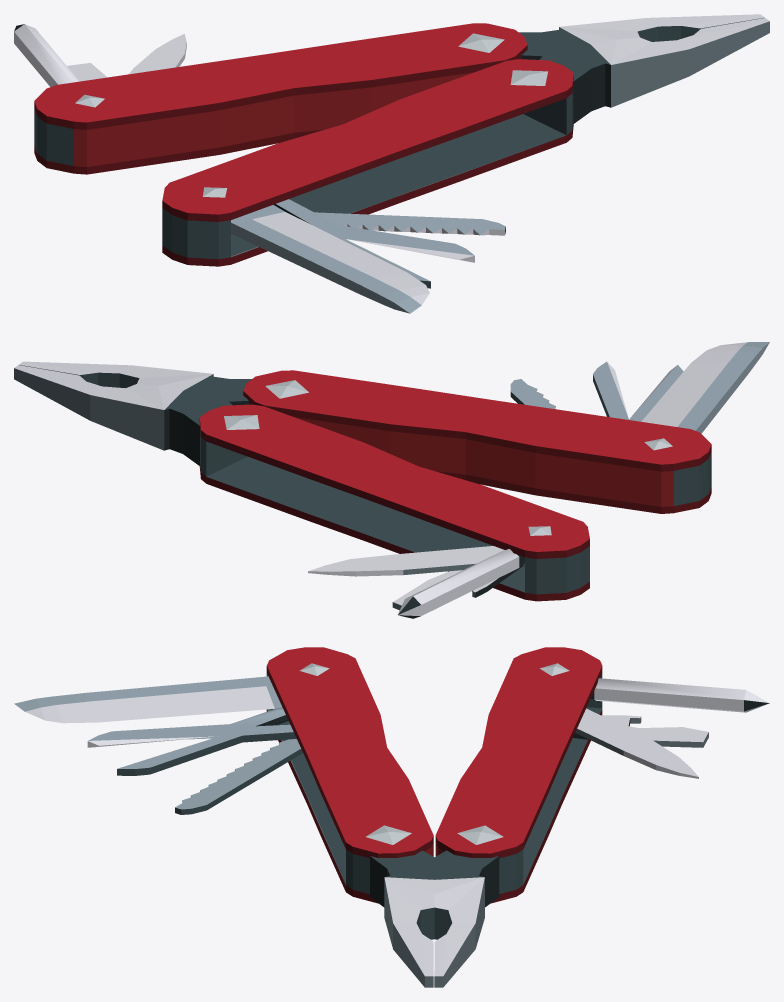
The model's file is WorldItem_Multitool.fbx.
3 renders of one model, top to bottom at view 1: azimuth 30°, elevation 25°; view 2: azimuth 150°, elevation 25°; view 3: azimuth 270°, elevation 25°, orthographic. The views are drawn at different scales.
Visible parts, largest first — view 1: ZomboidMultitool; view 2: ZomboidMultitool; view 3: ZomboidMultitool.
Boxes of the visible parts, bbox=[...] form: ZomboidMultitool: bbox=[14, 14, 769, 313]; ZomboidMultitool: bbox=[14, 342, 769, 618]; ZomboidMultitool: bbox=[14, 647, 769, 987].
Size of the model in its own units: 0.1964 by 0.0167 by 0.2025.
